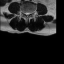CCS_normal: (26, 10, 28, 18)
LFS_normal: (30, 10, 32, 15)
LLS_normal: (28, 10, 30, 17)
RFS_stenosis: (23, 10, 24, 15)
RLS_normal: (24, 10, 26, 16)
